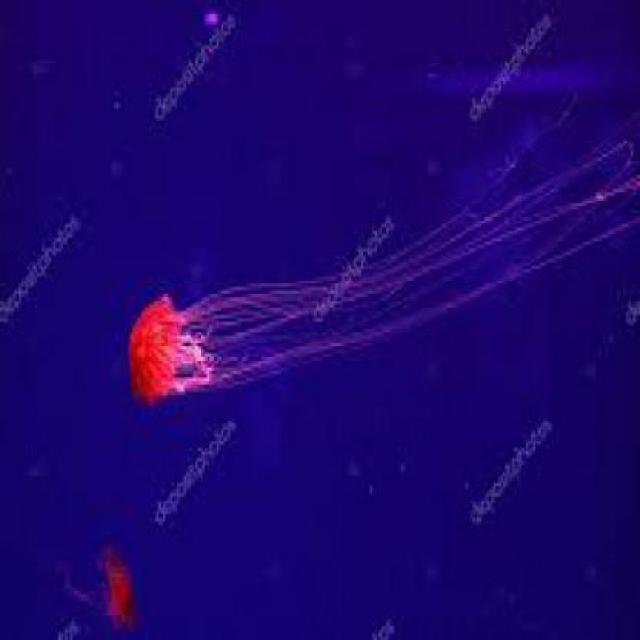Jellyfish: (120, 256, 412, 406)
